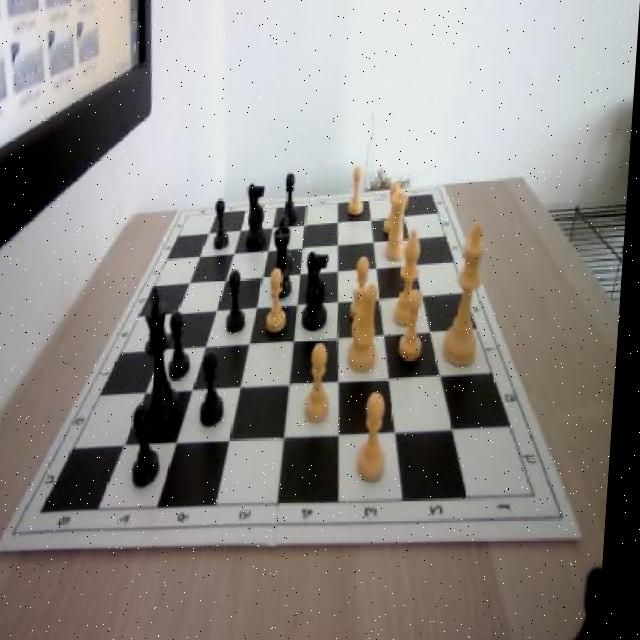black-bishop: (140, 292, 192, 437)
black-king: (303, 249, 336, 330), (247, 180, 272, 252)
black-knight: (136, 403, 169, 487), (202, 349, 232, 426), (172, 311, 199, 380), (229, 266, 254, 334), (276, 217, 300, 275), (216, 198, 234, 252), (284, 171, 302, 221)
black-queen: (273, 224, 301, 300)
black-rook: (397, 230, 429, 328)
white-bishop: (446, 223, 491, 366)
white-king: (347, 274, 392, 375)
white-knight: (361, 392, 398, 482), (305, 340, 341, 425), (401, 288, 433, 364), (353, 257, 381, 325), (268, 266, 293, 332), (348, 168, 369, 216), (386, 183, 406, 233)
white-queen: (386, 191, 413, 261)
